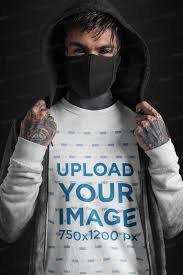mask: (49, 16, 128, 100)
